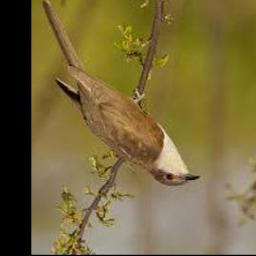Cuckoo: (42, 0, 201, 187)
